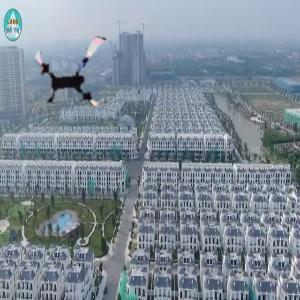drone: (29, 27, 121, 119)
